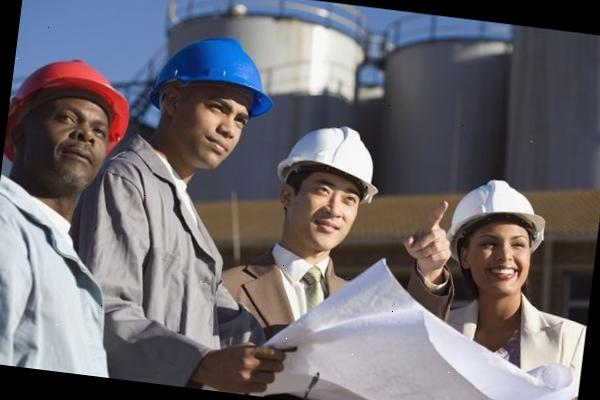helmet: (2, 45, 138, 176), (146, 30, 284, 122), (444, 174, 555, 270), (271, 120, 390, 205)
no_wear: (446, 300, 588, 366), (220, 248, 354, 308)
